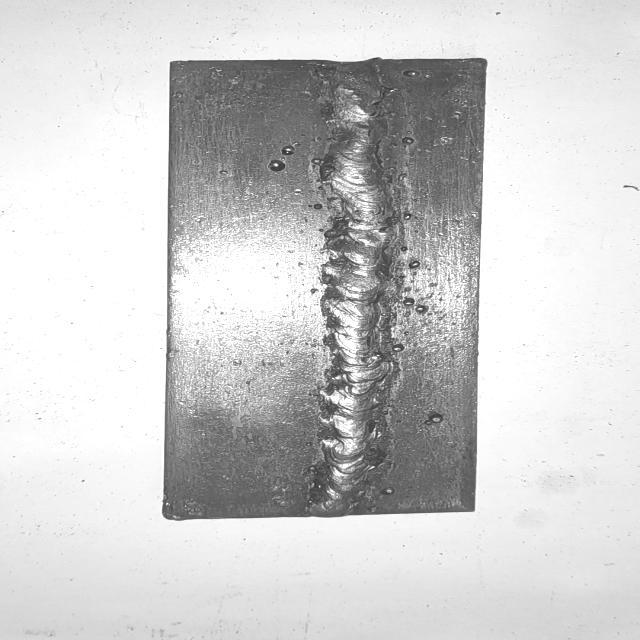Defect: (260, 138, 342, 181)
Welding Line: (320, 64, 387, 513)
Workpiece: (156, 54, 500, 521)
